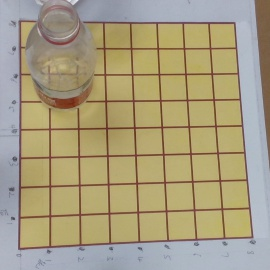bottle: (27, 1, 96, 123)
